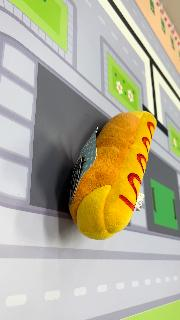hotdog: (68, 110, 158, 240)
